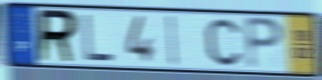4: (125, 14, 157, 65)
C: (204, 17, 244, 68)
I: (167, 13, 179, 67)
L: (81, 13, 116, 63)
P: (243, 14, 287, 72)
R: (35, 7, 79, 65)
